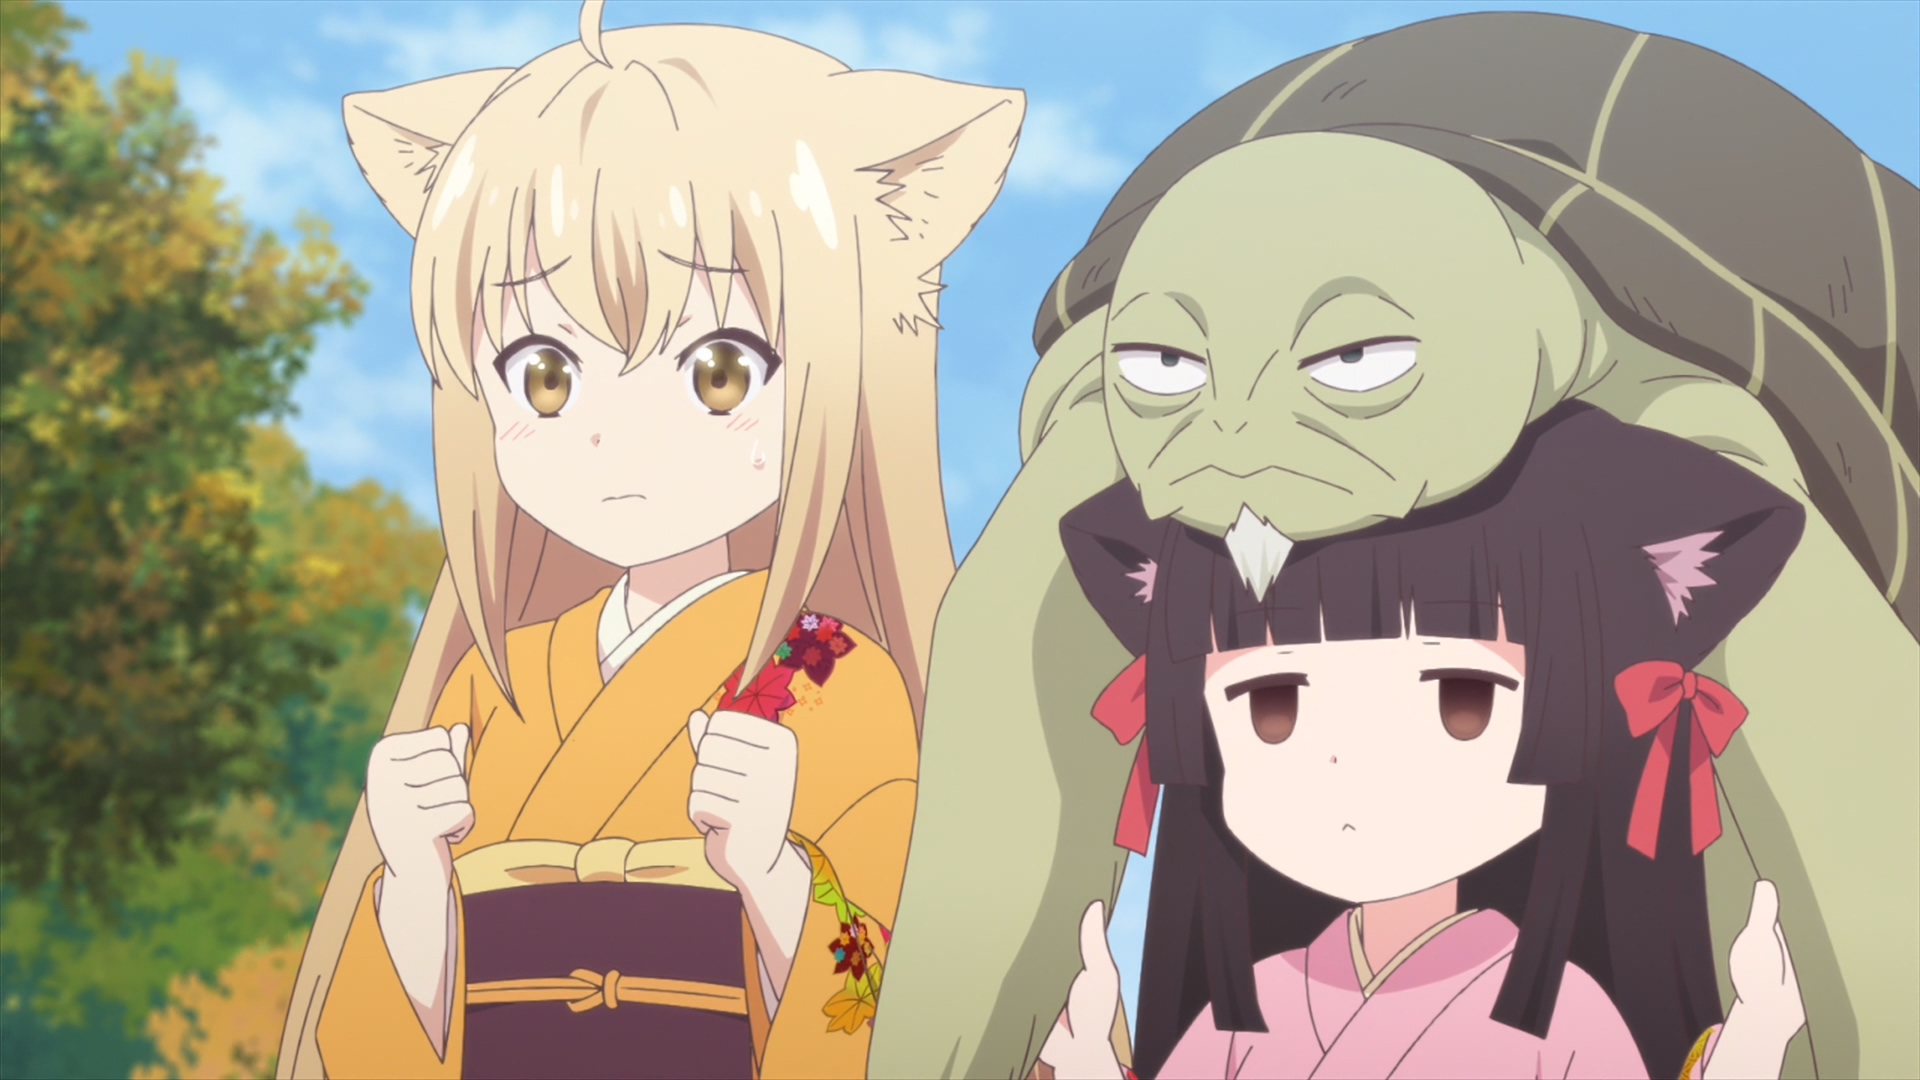其他: (864, 11, 1920, 1080)
柚: (274, 1, 1026, 1080)
樱: (1039, 397, 1807, 1080)
